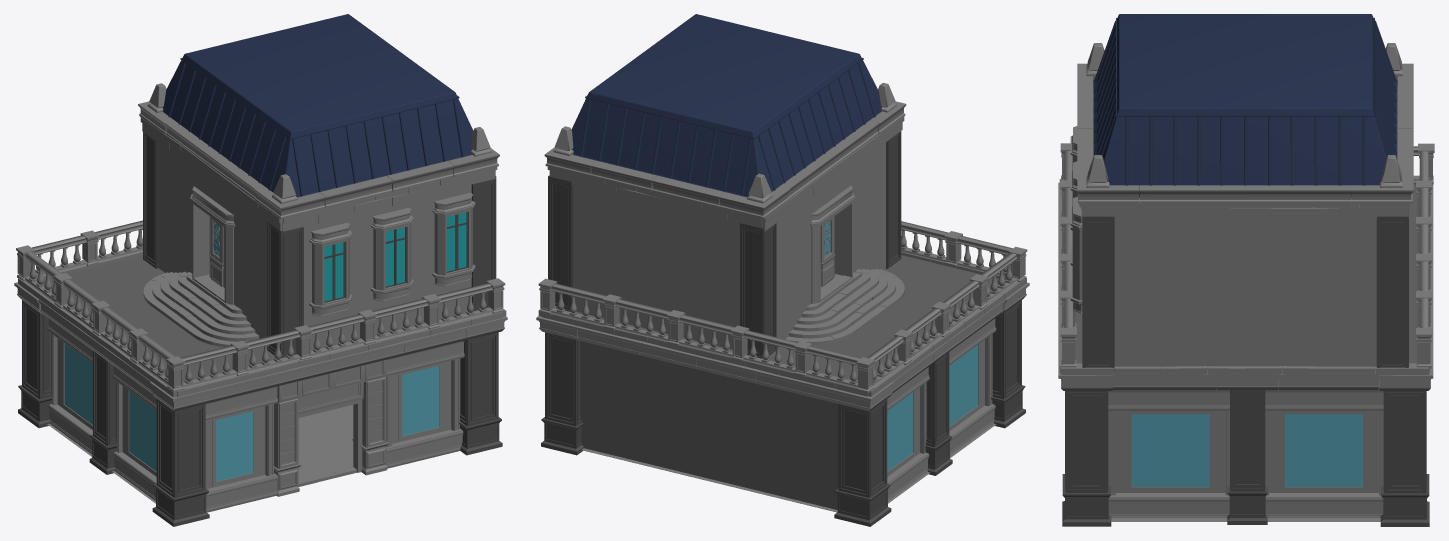
Rendered from SM_building_cafe_01.fbx.
The picture shows the model from 3 angles, left to right: view 1: azimuth 30°, elevation 25°; view 2: azimuth 150°, elevation 25°; view 3: azimuth 270°, elevation 25°; orthographic projection. The views are drawn at different scales.
Visible parts, largest first — view 1: Box346; view 2: Box346; view 3: Box346.
Boxes of the visible parts, left/top/right/bottom form: Box346: left=14, top=14, right=507, bottom=526; Box346: left=536, top=14, right=1029, bottom=526; Box346: left=1058, top=14, right=1434, bottom=526.
Size of the model in its own units: 496 by 486 by 408.
